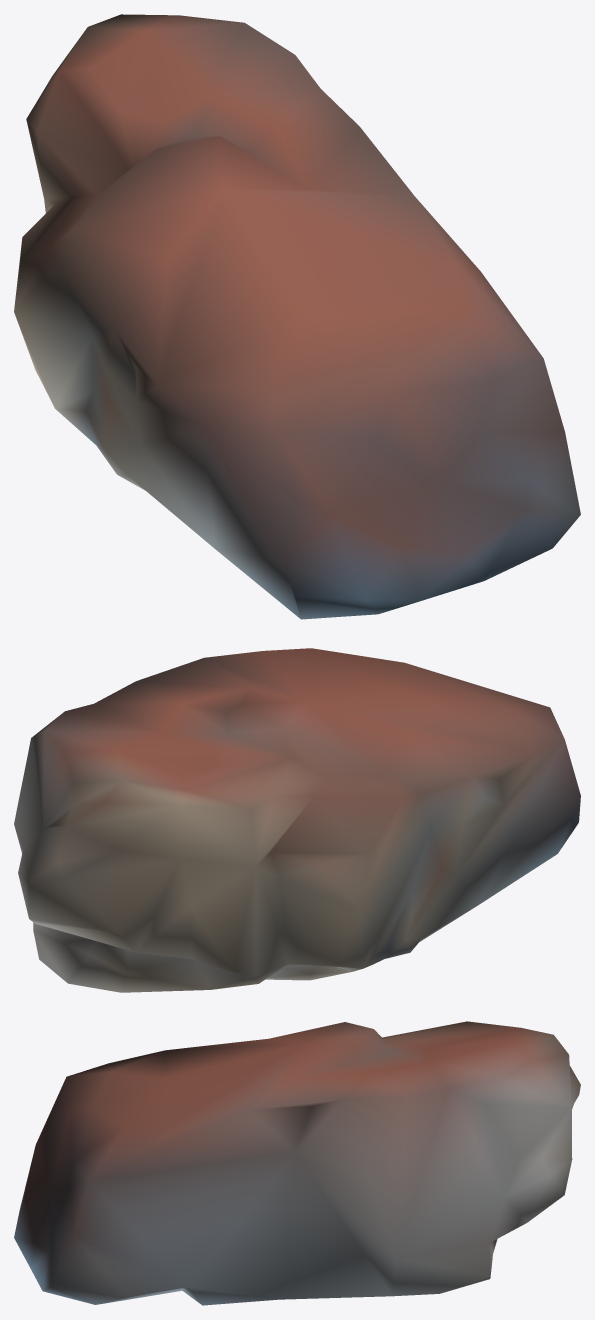
File: rock_07.fbx
The picture shows the model from 3 angles, top to bottom: view 1: azimuth 30°, elevation 25°; view 2: azimuth 150°, elevation 25°; view 3: azimuth 270°, elevation 25°; orthographic projection. The views are drawn at different scales.
Visible parts, largest first — view 1: rock_07_ground_fragment; view 2: rock_07_ground_fragment; view 3: rock_07_ground_fragment.
Boxes of the visible parts, x1,y1,x2,y2 form: rock_07_ground_fragment: (14, 14, 580, 619); rock_07_ground_fragment: (14, 648, 580, 992); rock_07_ground_fragment: (14, 1021, 580, 1305).
Bounding box in the file's own units: 85.81 × 73.39 × 166.
